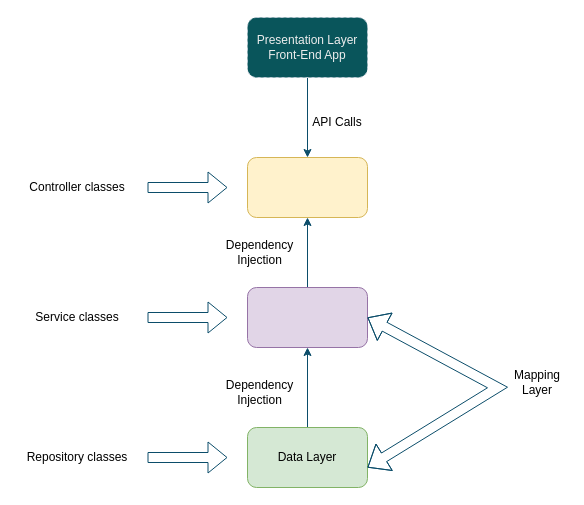
This 584x505 diagram has some shape labels left out. Here are the shapes that lost their labels. From the top down, the centre of each, then its label:
At (307,187): "API Layer".
At (307,317): "Services Layer".
